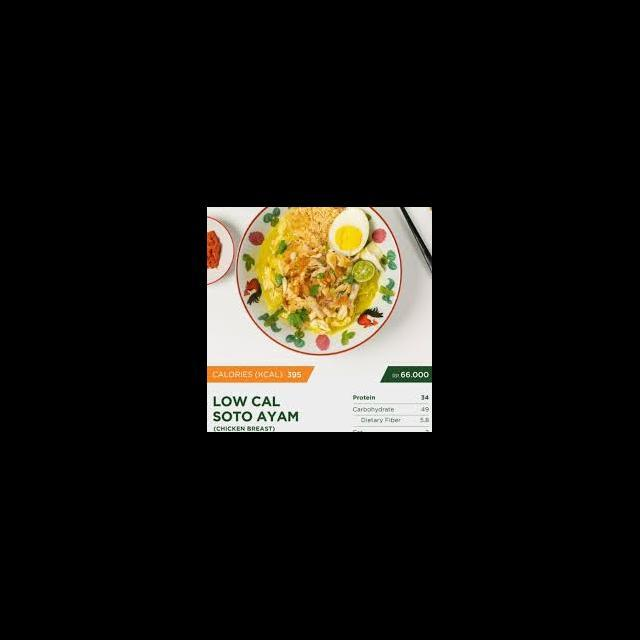Soto: (252, 216, 393, 340)
